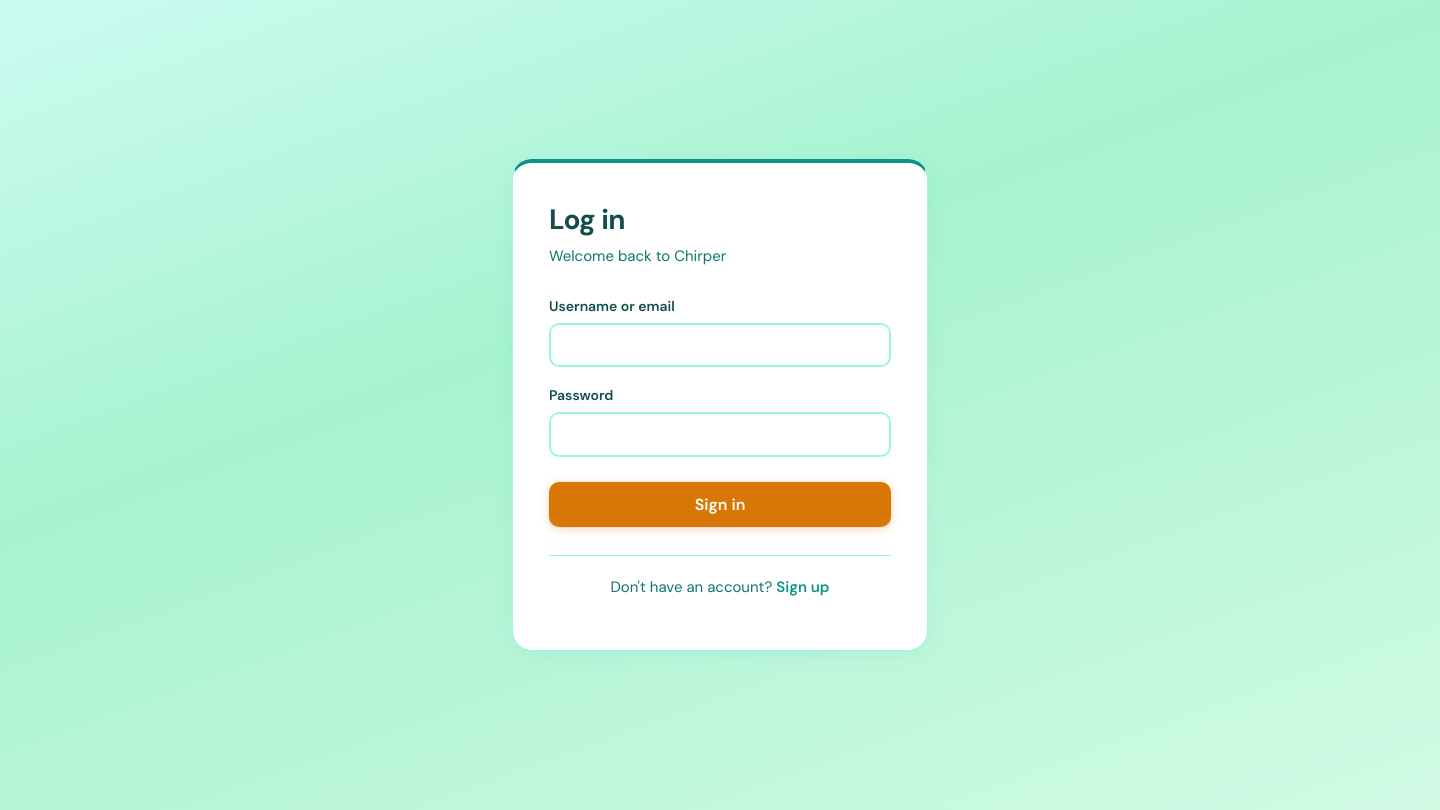
Integration: guest flow and protection › at /login, can navigate to signup
Expected: the heading "Log in" is shown, x1=549 y1=201 x2=625 y2=238
Click the link "Sign up" at (803, 587), box x1=776 y1=577 x2=830 y2=597
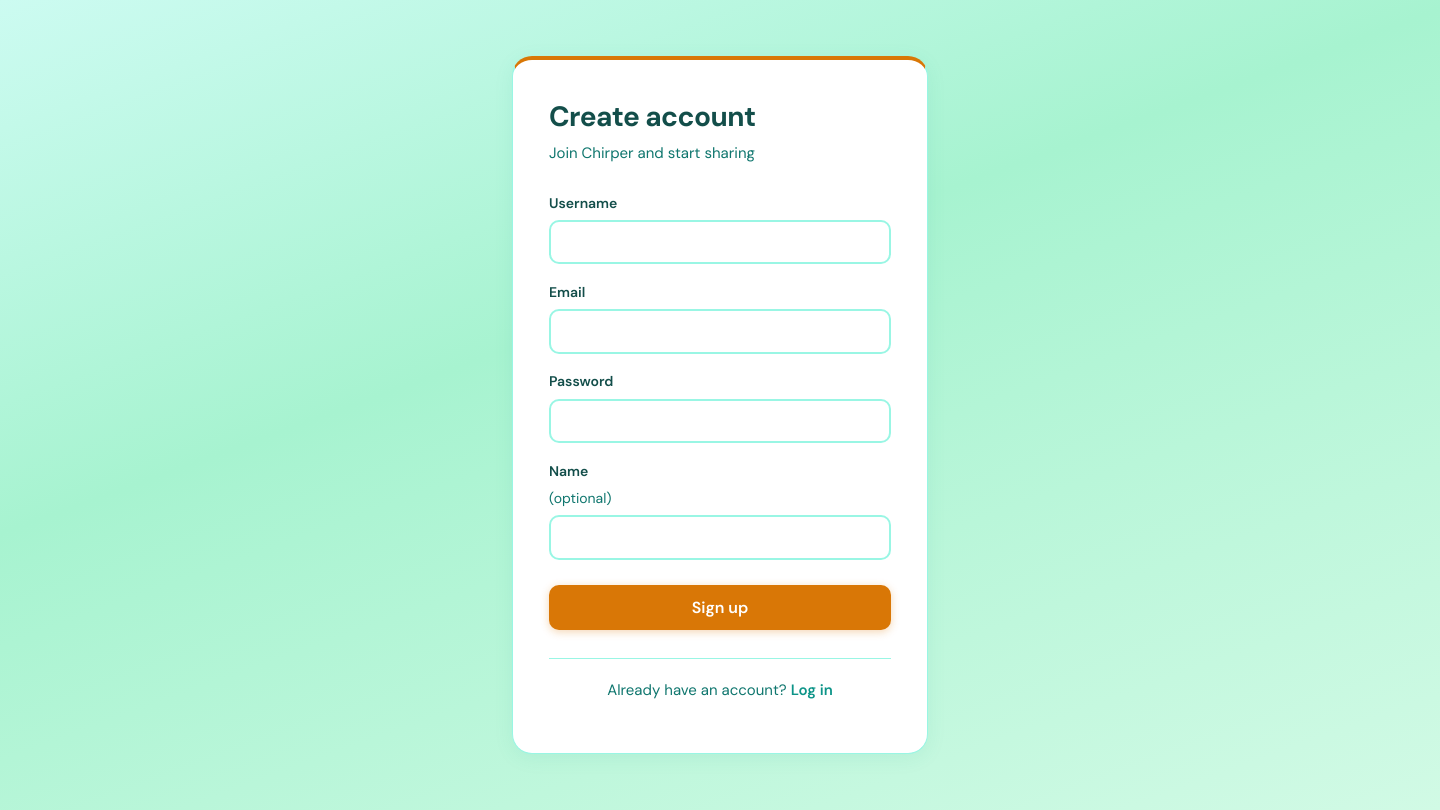
Expected: the heading "Create account" is shown, x1=549 y1=98 x2=756 y2=135
